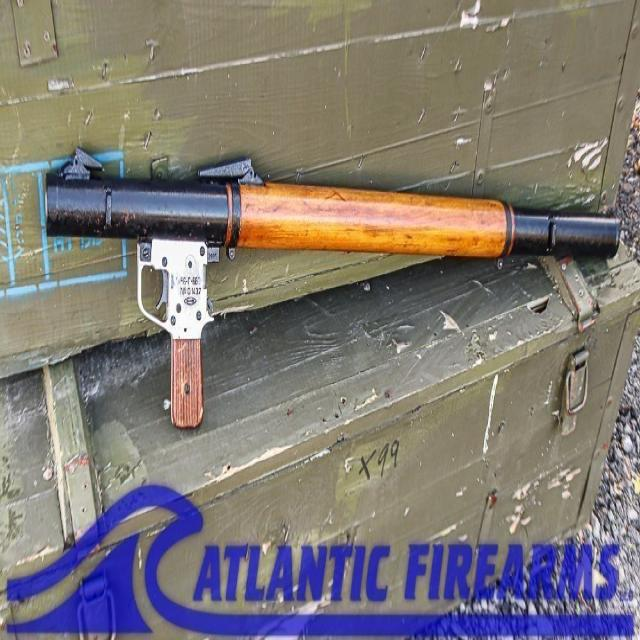bazooka: (28, 113, 634, 328)
